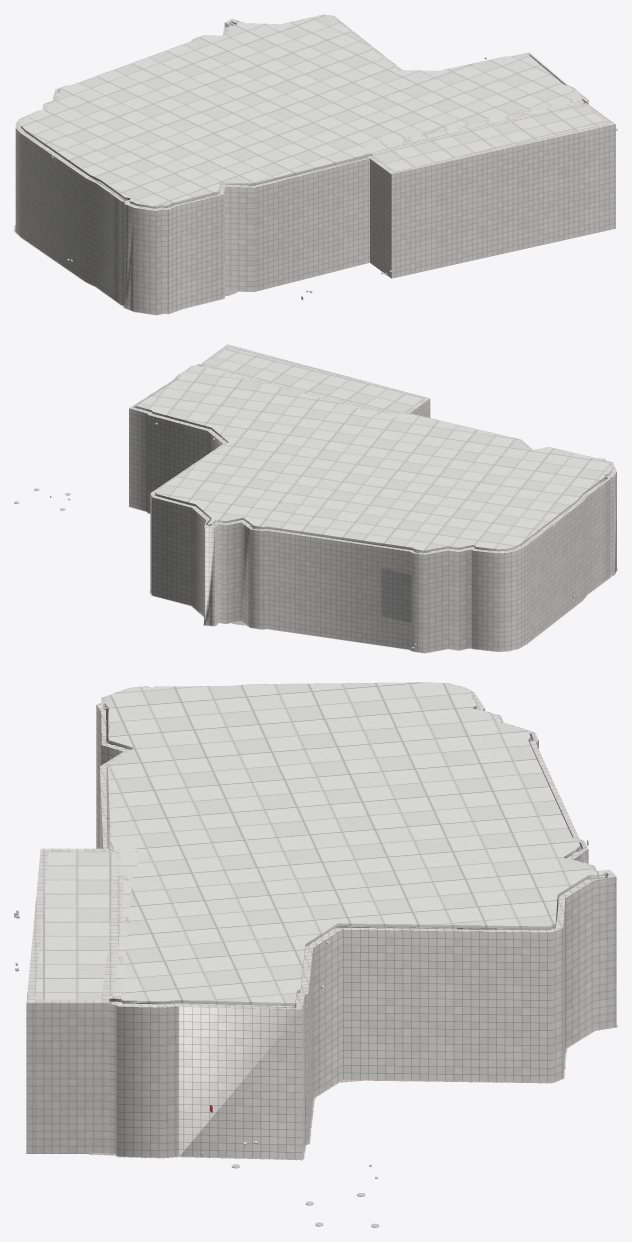
File: cocina_quest_ef4490bf2a9a.glb
The picture shows the model from 3 angles, top to bottom: view 1: azimuth 30°, elevation 25°; view 2: azimuth 150°, elevation 25°; view 3: azimuth 270°, elevation 25°; orthographic projection. The views are drawn at different scales.
Visible parts, largest first — view 1: Z_cocina_tile_w, Z_cocina_ceil; view 2: Z_cocina_ceil, Z_cocina_tile_w, GLASS_3, WALL_FOOTPRINT_LINE; view 3: Z_cocina_ceil, Z_cocina_tile_w, WALL_FOOTPRINT_LINE.
Part boxes in pixels (x1,y1,x2,y2): Z_cocina_tile_w: [15, 14, 615, 314]; Z_cocina_ceil: [21, 15, 607, 208]; Z_cocina_ceil: [136, 347, 611, 552]; Z_cocina_tile_w: [129, 344, 616, 652]; GLASS_3: [382, 568, 410, 622]; WALL_FOOTPRINT_LINE: [128, 506, 617, 653]; Z_cocina_ceil: [35, 682, 606, 1006]; Z_cocina_tile_w: [26, 682, 616, 1160]; WALL_FOOTPRINT_LINE: [89, 1024, 617, 1159].
Size of the model in its own units: 17 by 3.08 by 10.91.
30 materials, 4 textured.
